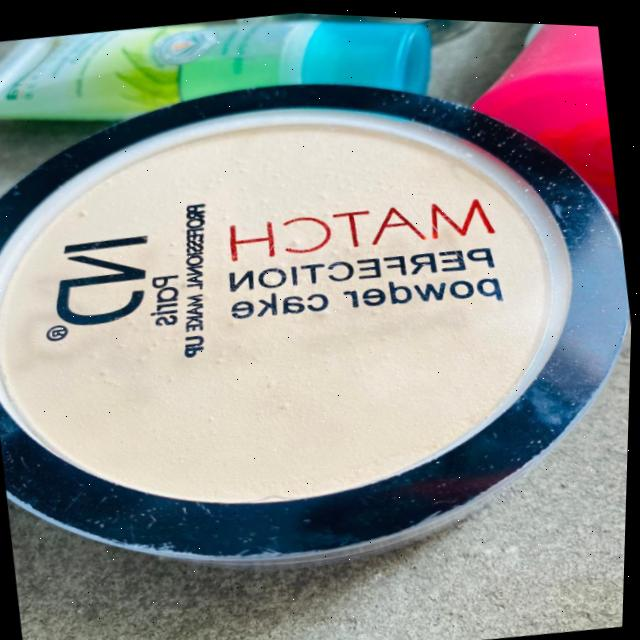powder: (0, 15, 640, 629)
